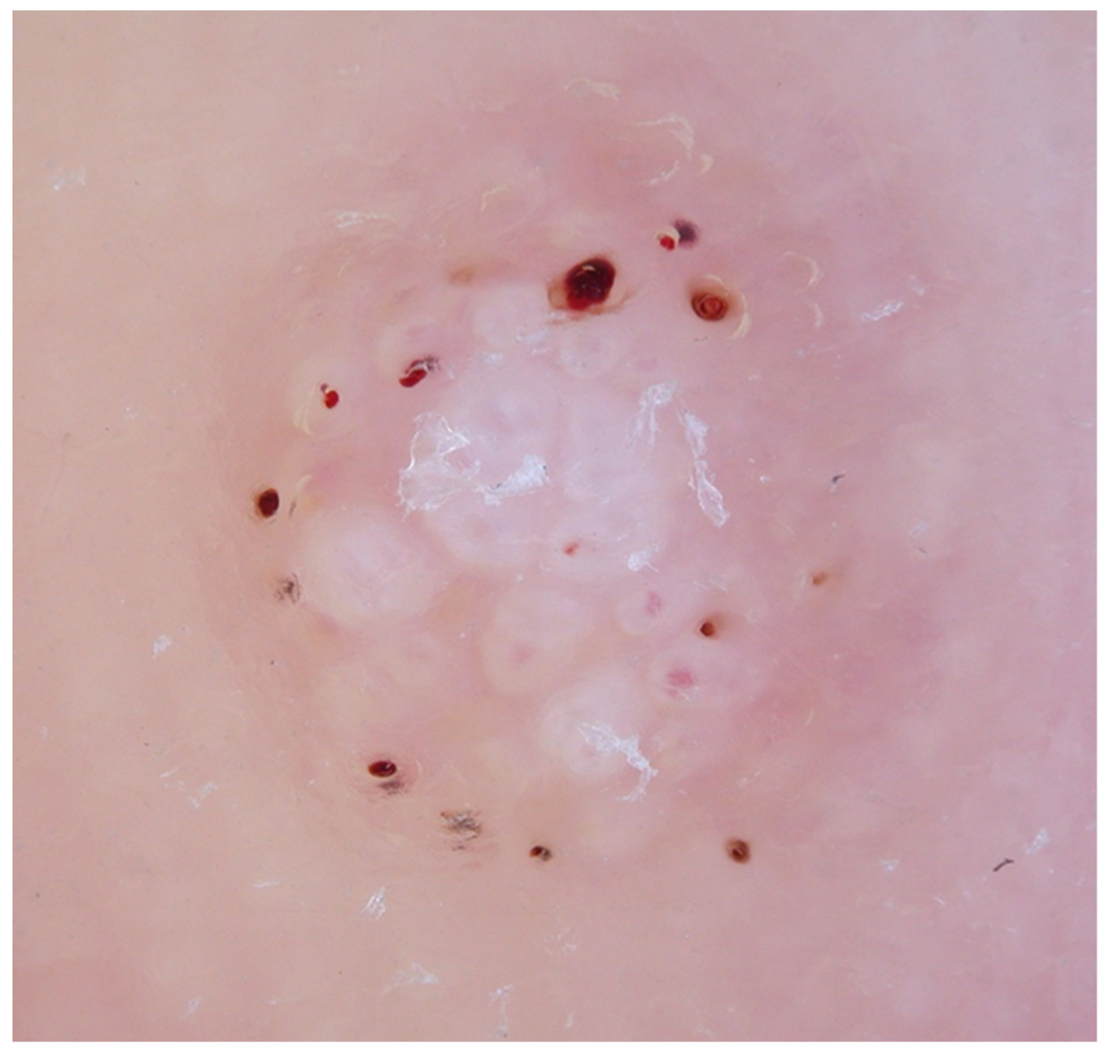Warts: (117, 72, 1061, 991)
